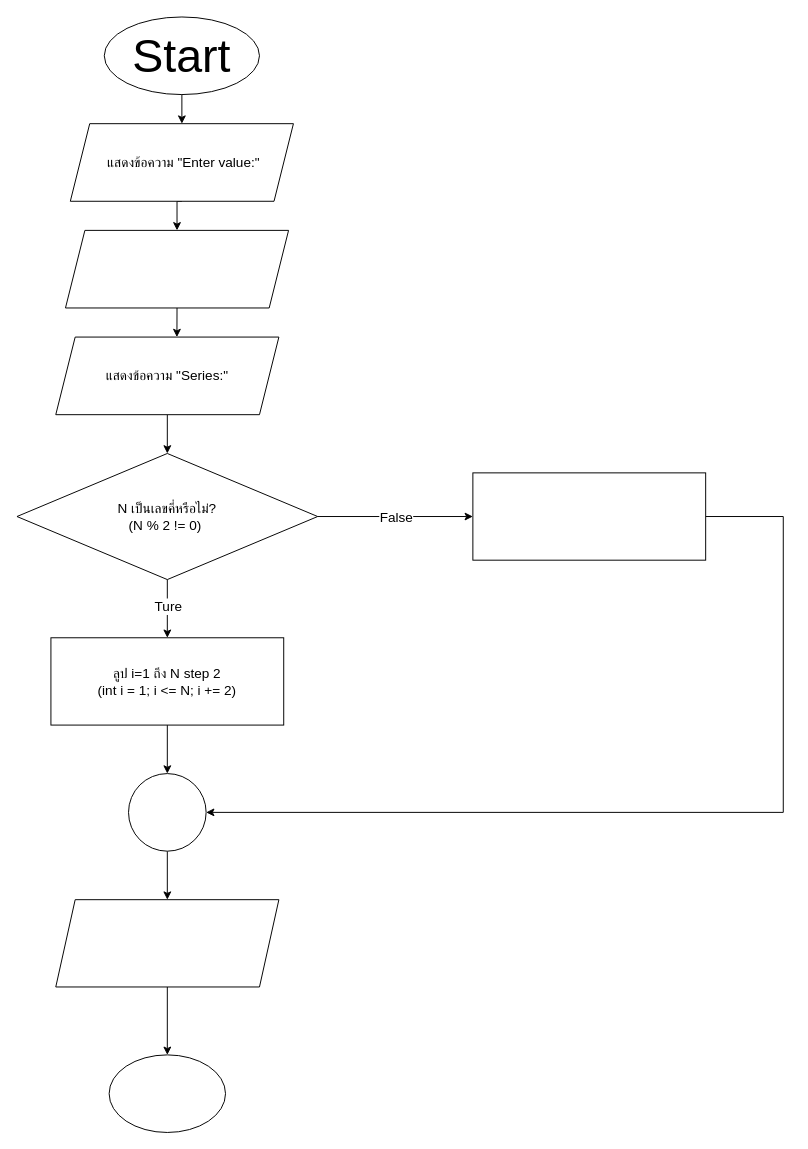
The diagram is 808 pixels wide and 1149 high, and some of its shapes have lost their labels. The centre of each missing label's shape, as x and y in pixels:
รับค่าจำนวนเต็ม N จากผู้ใช้: point 177,268
ลูป i=N ถึง 0 step -2 (int i = N; i >= 0; i -= 2: point 589,516
แสดง: point 167,943
